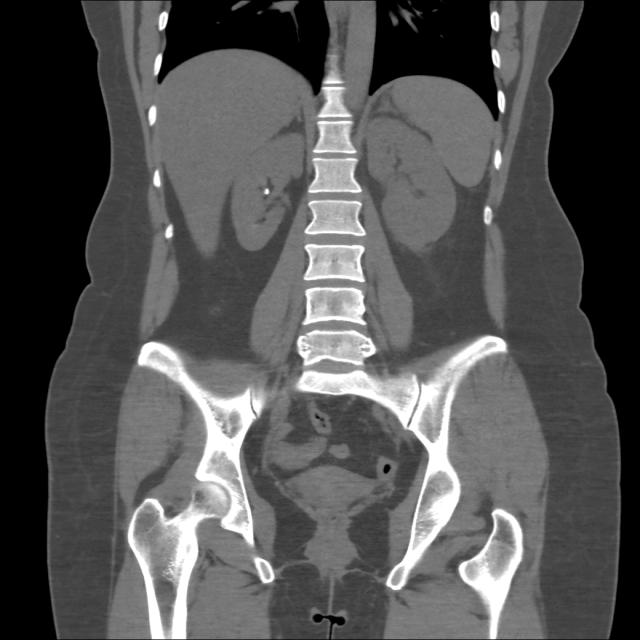kidneystone: (263, 188, 270, 194)
